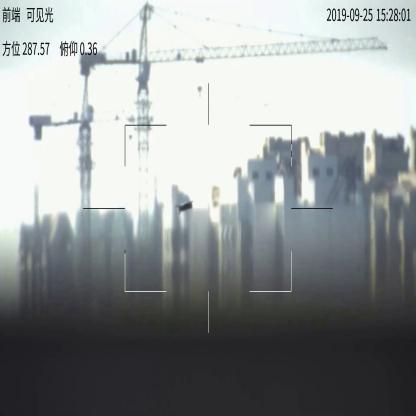uav: (176, 201, 194, 212)
